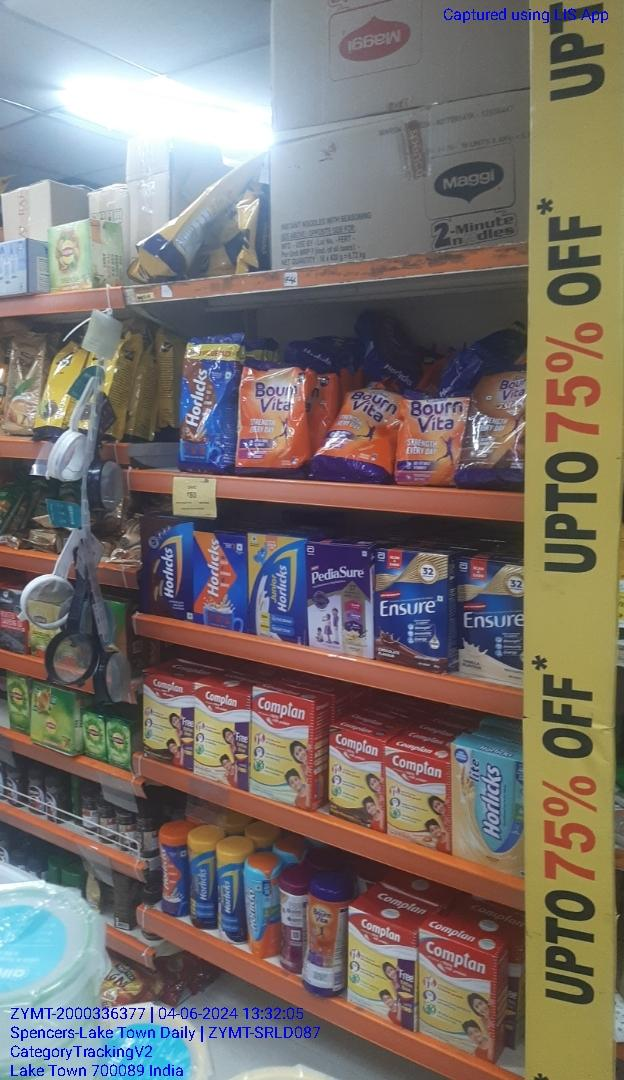BOURN_VITA_500_G_JAR: (304, 877, 345, 998)
BOURN_VITA_FIVE_STAR_MAGIC_500_G_POUCH: (460, 360, 526, 485)
COMPLAN_KESAR_BADAM_200_GMS_PACK: (385, 746, 452, 853)
ENSURE_VANILLA_400_G_PACK: (455, 553, 526, 687)
HORLICKS_LITE_REGULAR_MALT_500_GM_JAR: (244, 854, 279, 958)
PEDIASURE_VANILLA_500_G_PACK: (306, 539, 371, 659)
